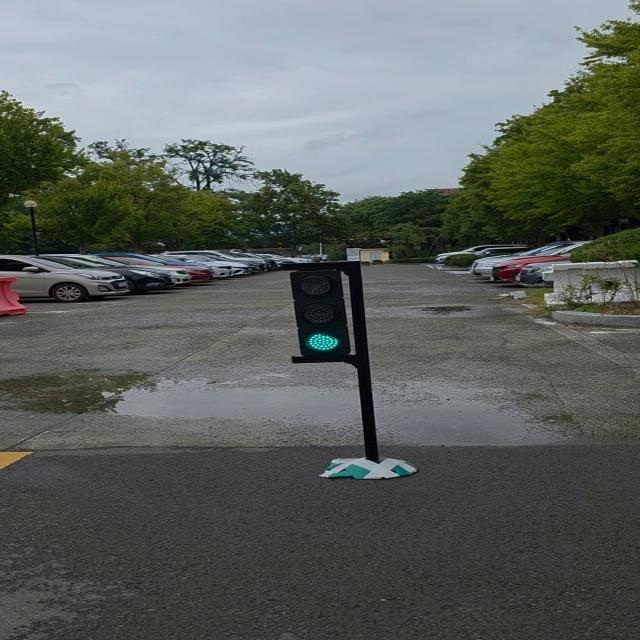green: (286, 262, 366, 359)
